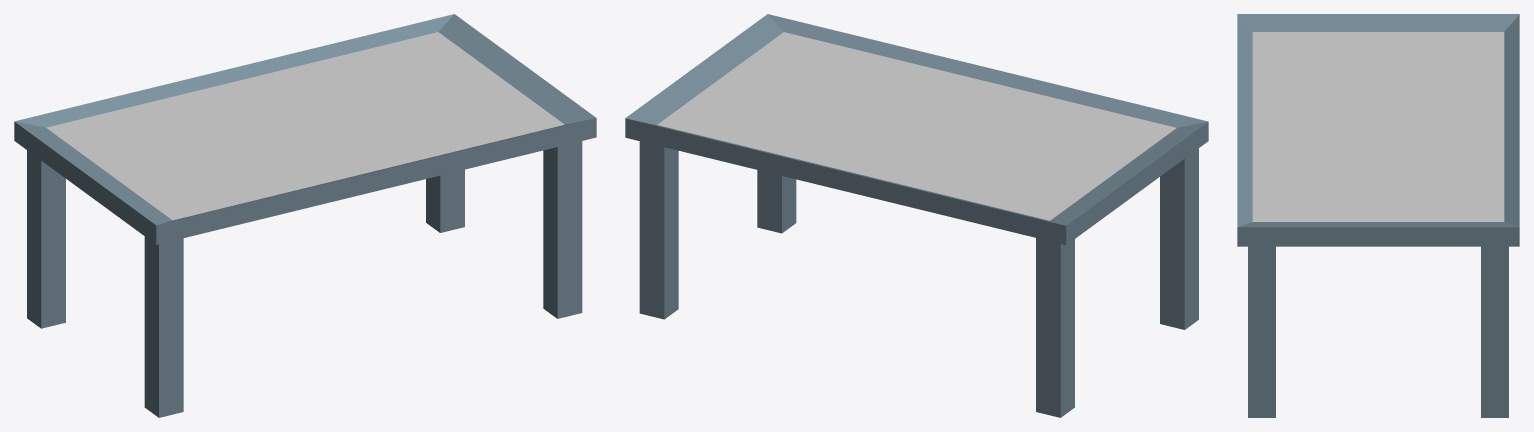
The picture shows the model from 3 angles, left to right: view 1: azimuth 30°, elevation 25°; view 2: azimuth 150°, elevation 25°; view 3: azimuth 270°, elevation 25°; orthographic projection.
Bounding box in the file's own units: 1.43 × 0.61 × 0.8.
